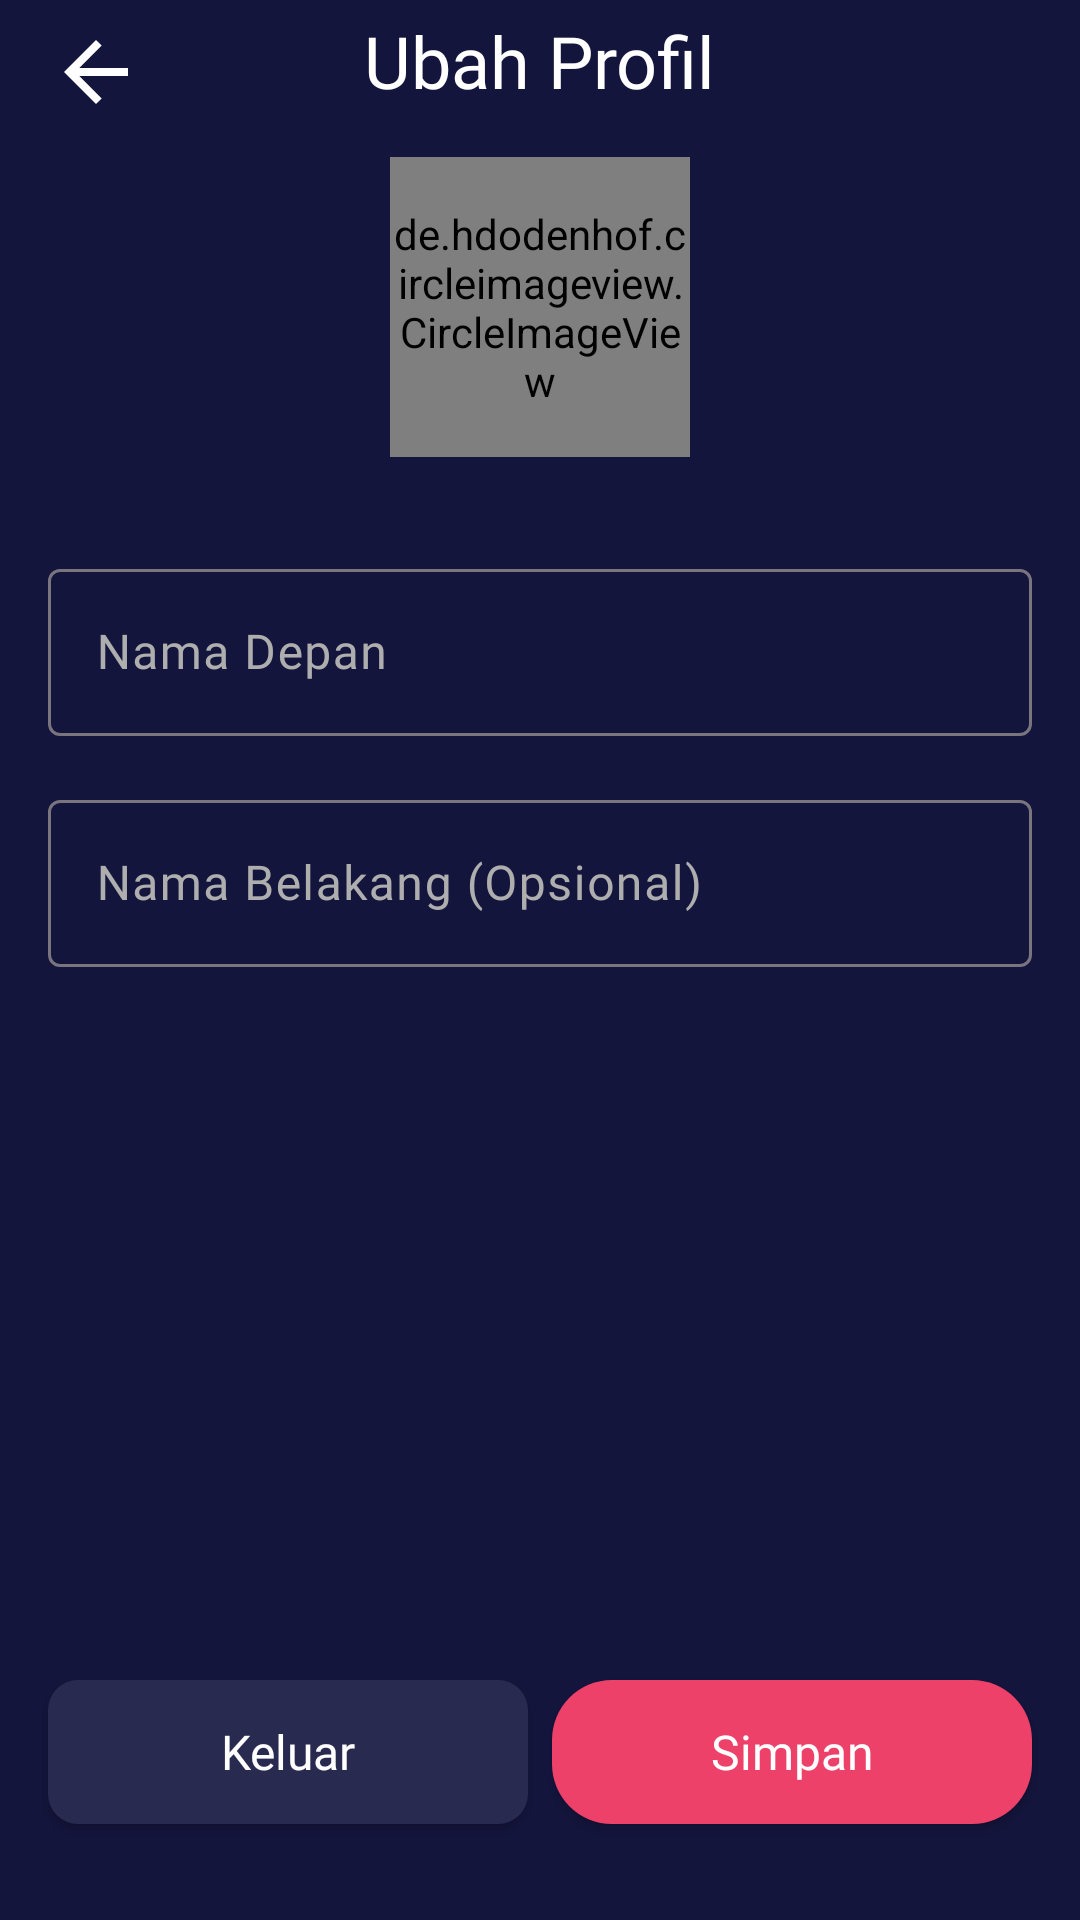

Icon bounding boxes for this 1080w x 1920h phone screenshot, format (x1,y1,x2,y2):
arrow back: (64,40,128,104)
